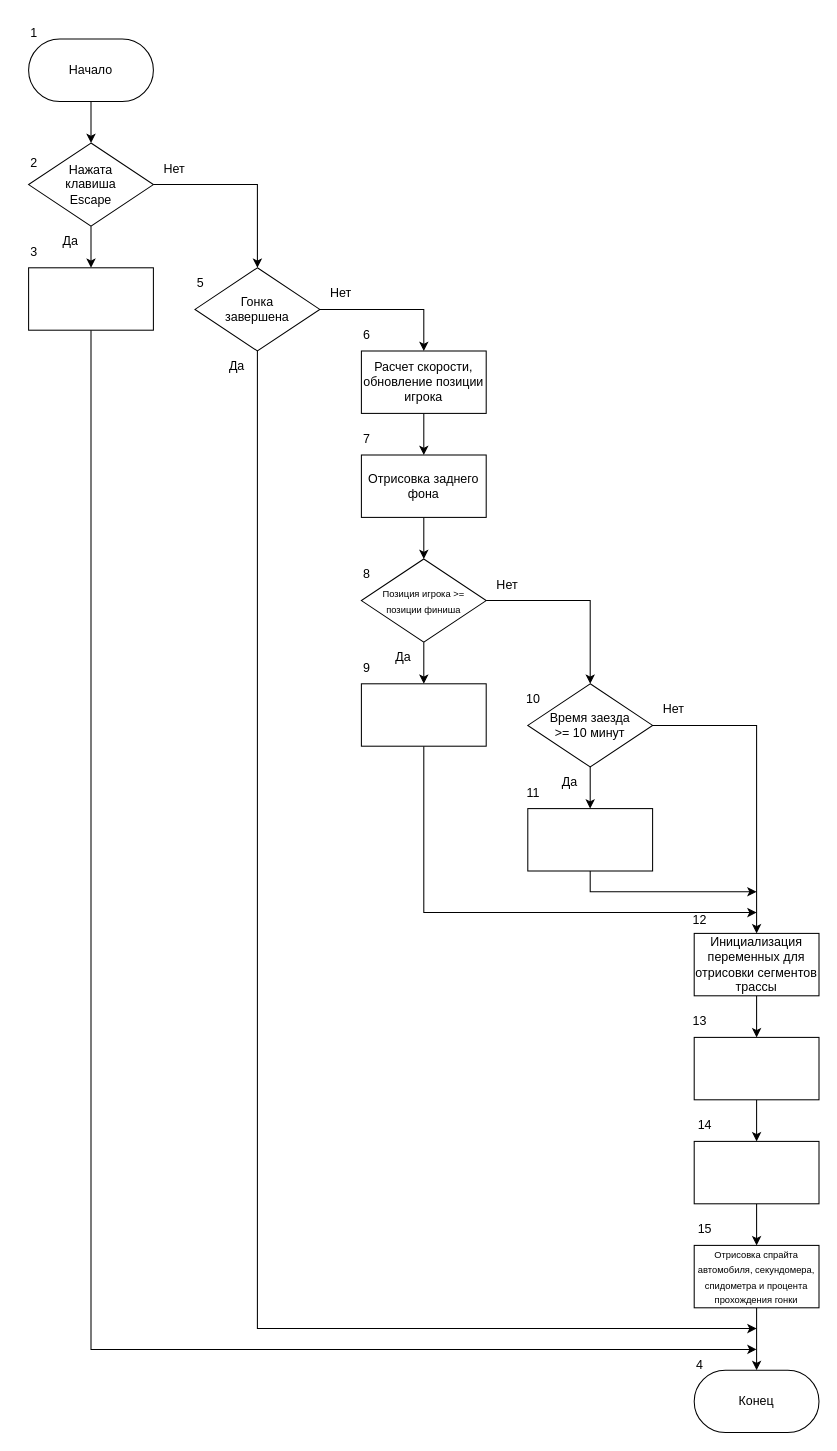
This 837x1451 diagram has some shape labels left out. Here are the shapes that lost their labels. From the top down, the centre of each, then its label:
At (90,298): "Остановка игры, переход в главное меню".
At (423,714): "Завершение гонки, добавление времени, вывод текста".
At (590,839): "Завершение гонки, вывод текста".
At (756,1068): "Отрисовка каждого сегмента трассы и спрайтов игровых объектов".
At (756,1172): "Обработка изменения позиции игрока по горизонтали".
